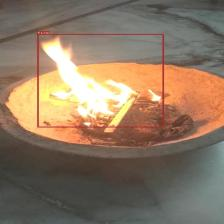fire: (37, 34, 164, 128)
